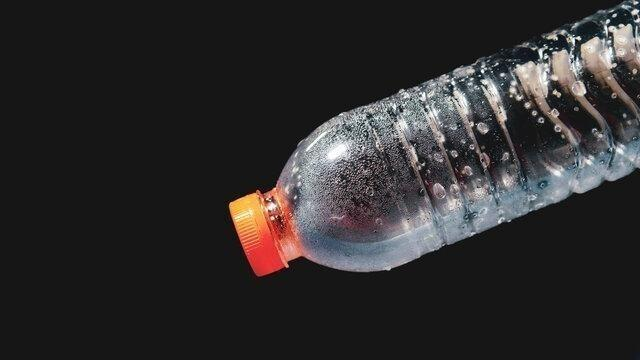bottle-plastic: (227, 0, 639, 283)
